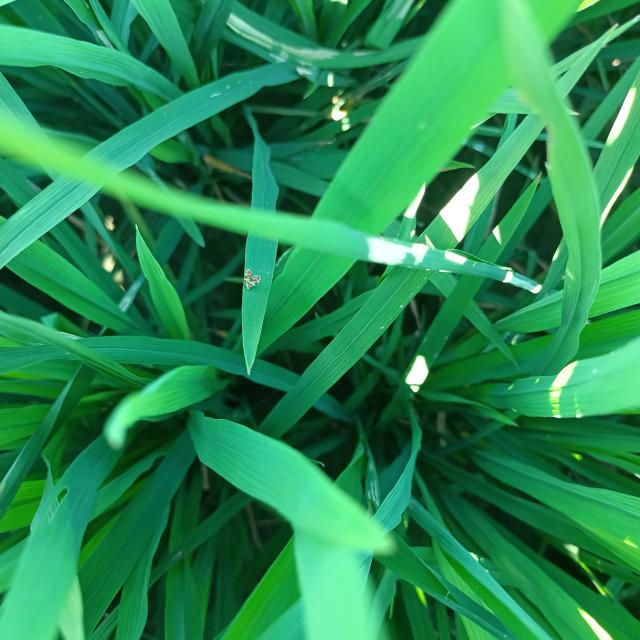rice leaf roller -penggulung daun padi-: (235, 258, 269, 306)
